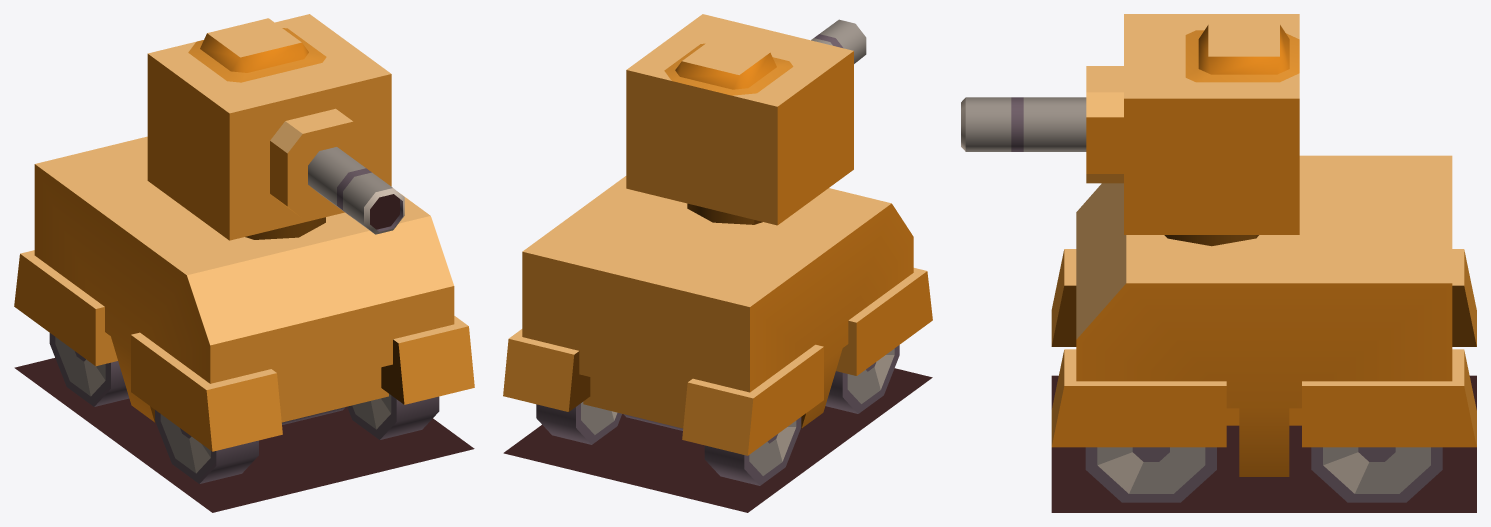
File: ReconMesh.AmberBlaze.glb
3 views of the same model, side by side, from view 1: azimuth 30°, elevation 25°; view 2: azimuth 150°, elevation 25°; view 3: azimuth 270°, elevation 25° (orthographic). The views are drawn at different scales.
Parts seen in each view (by area): view 1: ReconMesh.AmberBlaze; view 2: ReconMesh.AmberBlaze; view 3: ReconMesh.AmberBlaze.
Boxes of the visible parts, left/top/right/bottom form: ReconMesh.AmberBlaze: left=14, top=14, right=474, bottom=512; ReconMesh.AmberBlaze: left=503, top=14, right=932, bottom=512; ReconMesh.AmberBlaze: left=961, top=14, right=1476, bottom=512.
Bounding box in the file's own units: 1.29 × 1.79 × 2.06.
1 material, 1 textured.
